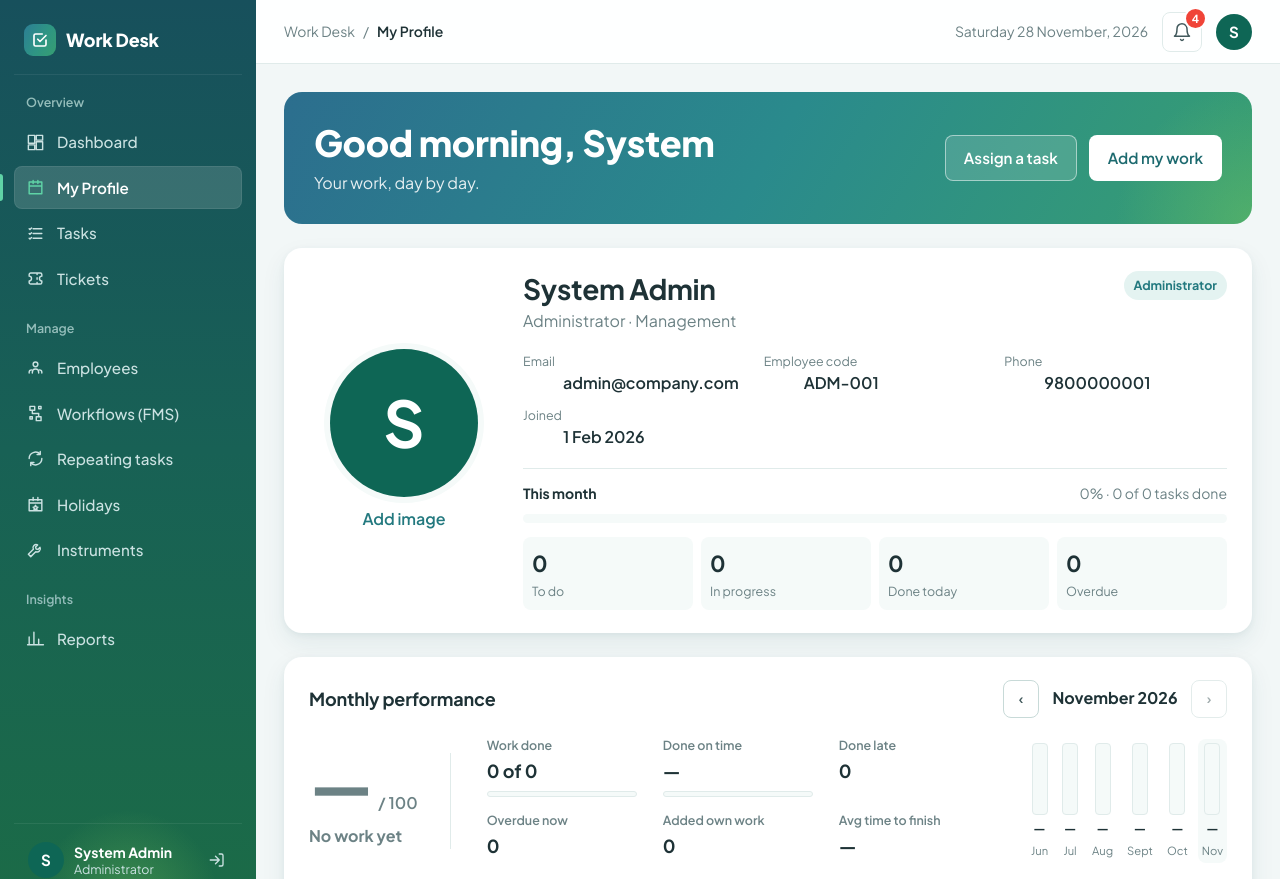
Test: admin dashboard stat cards › admins can open a separate personal dashboard without changing the company dashboard
This screenshot has width=1280, height=879.
Expected: the heading "Good morning, System" is shown, [314, 120, 714, 165]
Expected: the text "Everyone’s work today" is not shown
Step 1. Click the link "Dashboard" → coordinates (82, 142), box [26, 132, 138, 152]
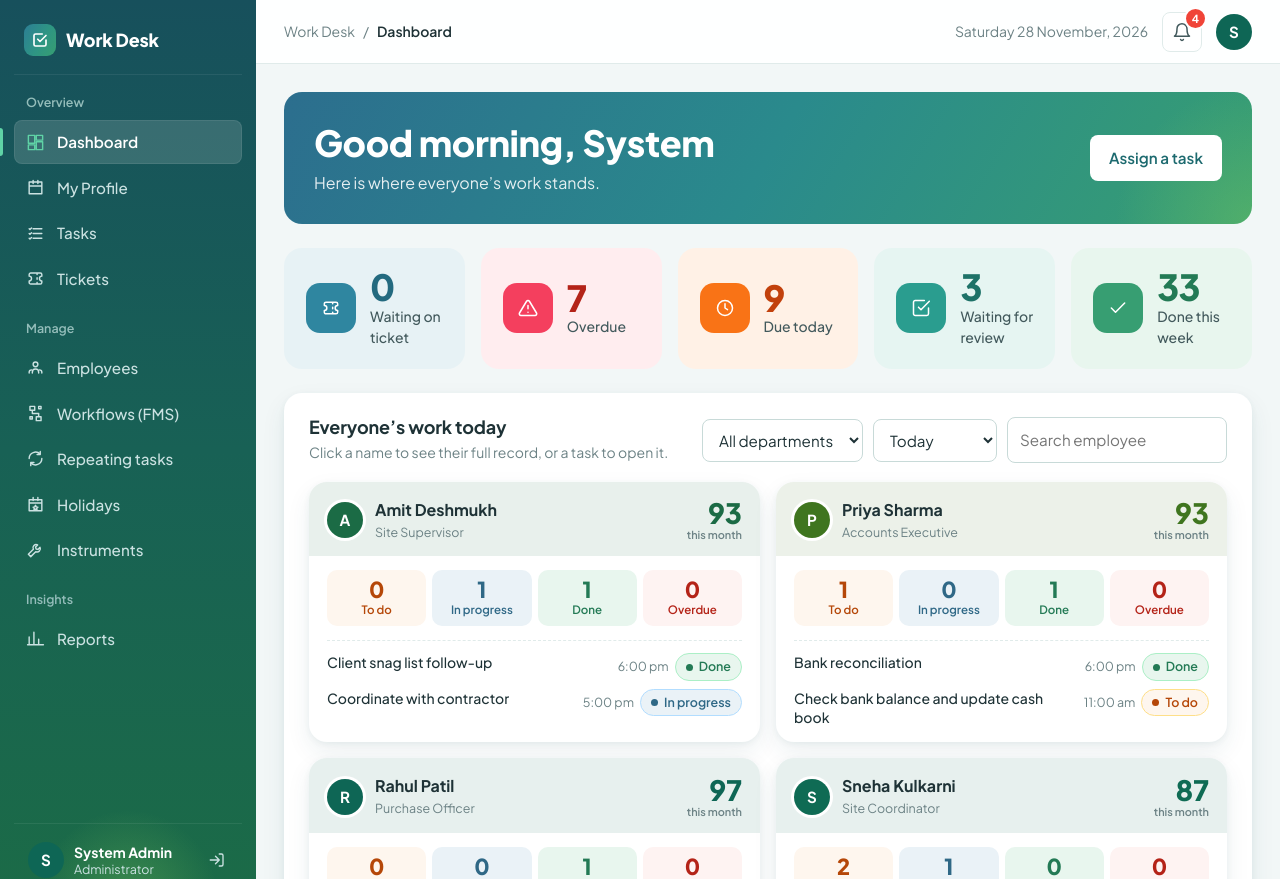
Expected: the heading "Good morning, System" is shown, [314, 120, 714, 165]
Expected: the heading "Everyone’s work today" is shown, [309, 415, 506, 438]
